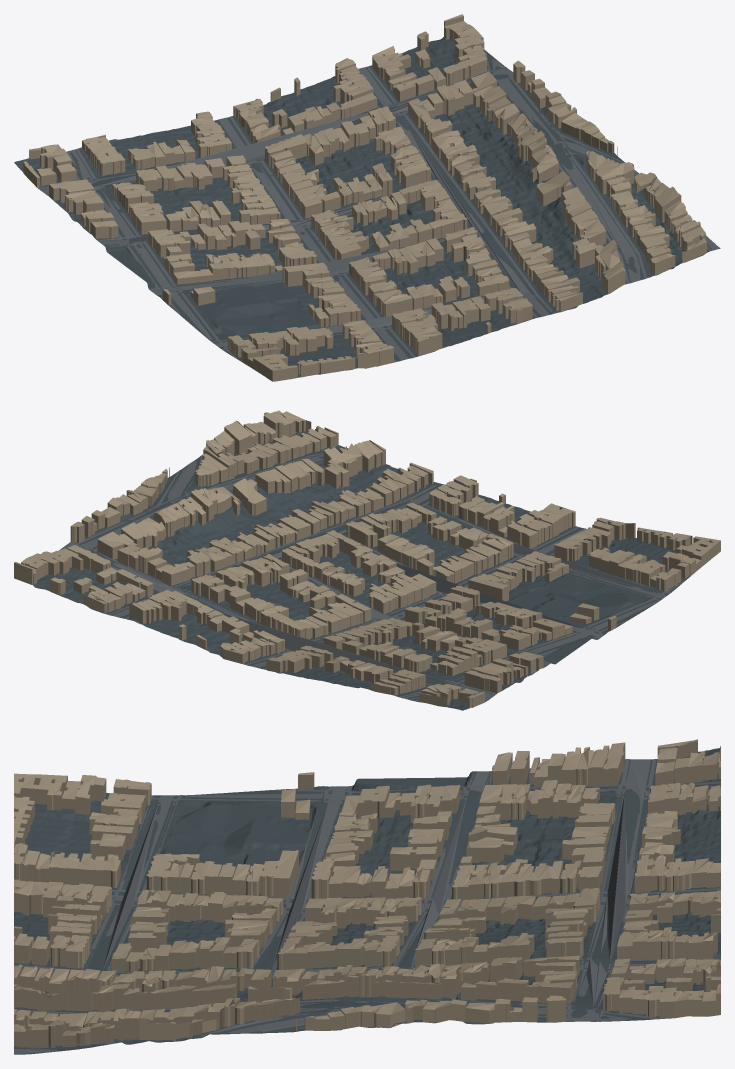
The model's file is epsg26910-1428-10884.lod0.glb.
3 renders of one model, top to bottom at view 1: azimuth 30°, elevation 25°; view 2: azimuth 150°, elevation 25°; view 3: azimuth 270°, elevation 25°, orthographic. The views are drawn at different scales.
Parts seen in each view (by area): view 1: epsg26910-1428-10884-lod0; view 2: epsg26910-1428-10884-lod0; view 3: epsg26910-1428-10884-lod0.
Boxes of the visible parts, x1,y1,x2,y2 form: epsg26910-1428-10884-lod0: (14, 14, 720, 381); epsg26910-1428-10884-lod0: (14, 410, 720, 710); epsg26910-1428-10884-lod0: (14, 739, 720, 1054).
Size of the model in its own units: 384 by 65.44 by 384.
